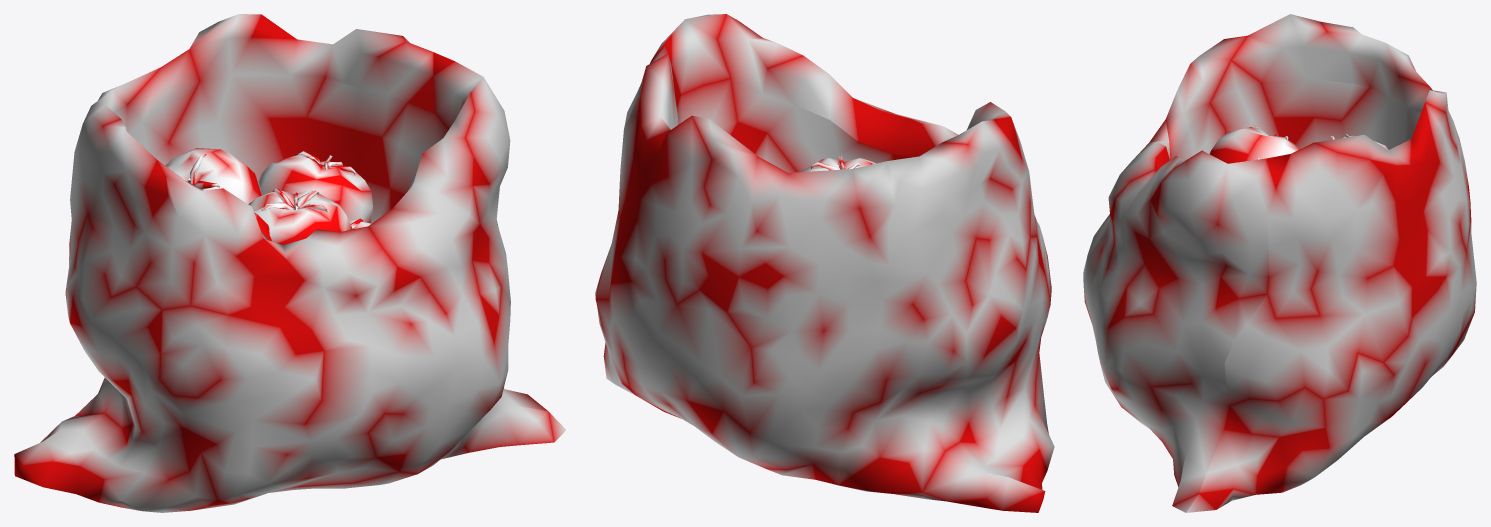
File: SM_TomatoSack01.FBX
3 views of the same model, side by side, from view 1: azimuth 30°, elevation 25°; view 2: azimuth 150°, elevation 25°; view 3: azimuth 270°, elevation 25° (orthographic). The views are drawn at different scales.
Parts seen in each view (by area): view 1: SM_TomatoSack01_LOD0; view 2: SM_TomatoSack01_LOD0; view 3: SM_TomatoSack01_LOD0.
Part boxes in pixels (x1,y1,x2,y2): SM_TomatoSack01_LOD0: [14, 14, 565, 512]; SM_TomatoSack01_LOD0: [595, 14, 1054, 512]; SM_TomatoSack01_LOD0: [1083, 14, 1476, 512].
Size of what is drawn, in the model's own units: 38.24 by 30.3 by 29.15.
